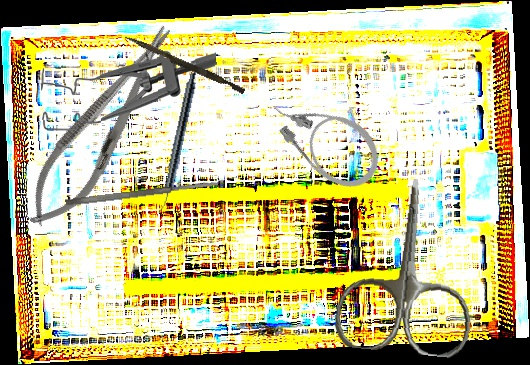Cannula: (260, 76, 393, 201)
Handpiece: (156, 71, 199, 214)
Iris Scissors: (331, 172, 486, 360)
Needle Holder: (11, 12, 193, 242)
Pusher: (122, 34, 247, 95)
Spatula Surgical: (65, 179, 219, 208)
Speculum: (40, 49, 218, 133)
